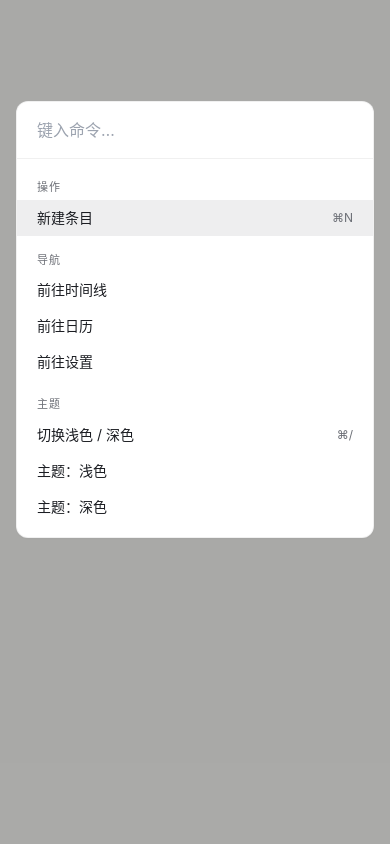
<CommandPalette /> › 未匹配显示空提示
The image size is (390, 844).
Type "zzzzzzz" into the field with test id "cmdk-input" at (195, 131), box [17,102,373,159]
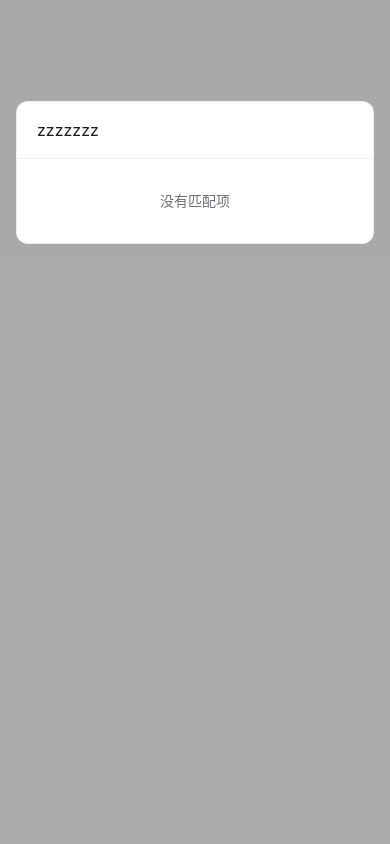
Check: the text "没有匹配项" is shown, box [160,192,230,209]
